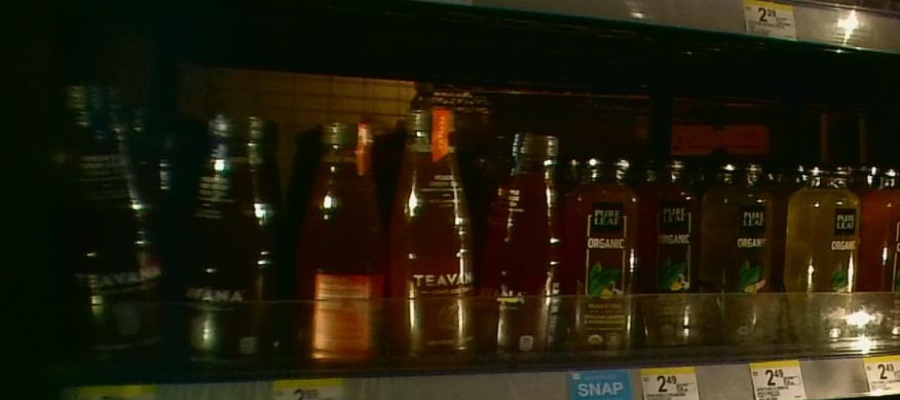bottle: (59, 77, 164, 364), (184, 106, 280, 370), (297, 108, 386, 371), (389, 107, 475, 369), (482, 132, 562, 367), (566, 146, 639, 366), (786, 159, 861, 359), (708, 153, 774, 352), (643, 155, 703, 355), (865, 163, 898, 353)
